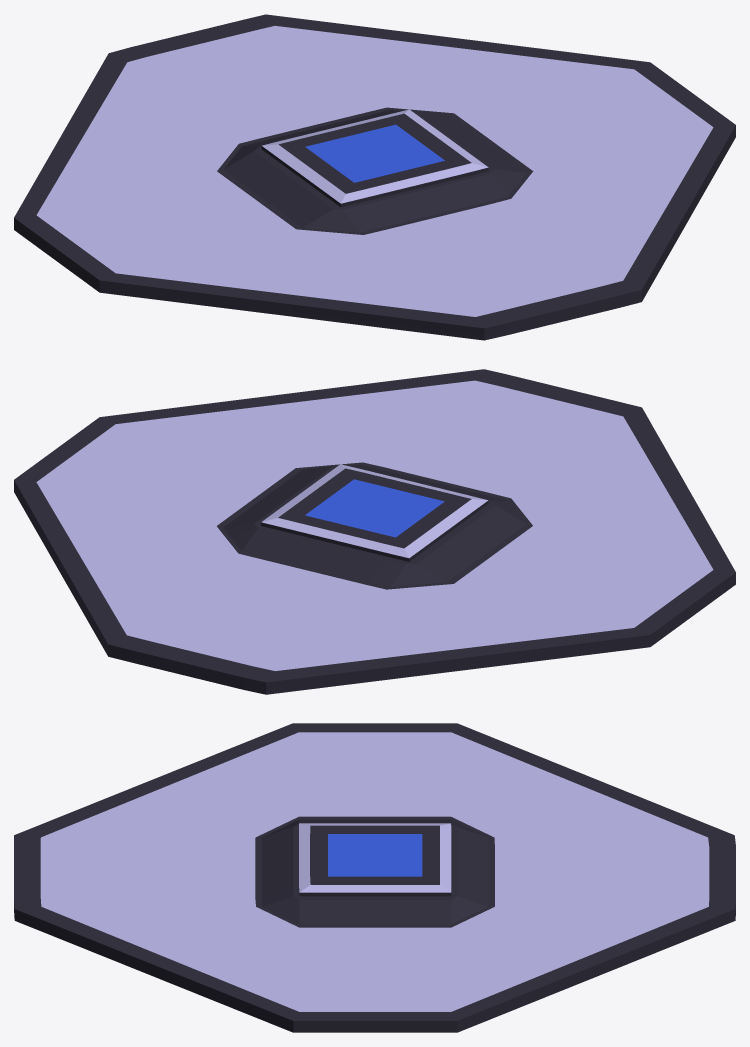
File: VR Barrier Platform.fbx
The picture shows the model from 3 angles, top to bottom: view 1: azimuth 30°, elevation 25°; view 2: azimuth 150°, elevation 25°; view 3: azimuth 270°, elevation 25°; orthographic projection. The views are drawn at different scales.
Visible parts, largest first — view 1: Barrier Plateform; view 2: Barrier Plateform; view 3: Barrier Plateform.
Boxes of the visible parts, <box> form: Barrier Plateform: <box>14,14,735,340</box>; Barrier Plateform: <box>14,369,735,694</box>; Barrier Plateform: <box>14,723,735,1032</box>.
Bounding box in the file's own units: 7036 × 316 × 7211.
